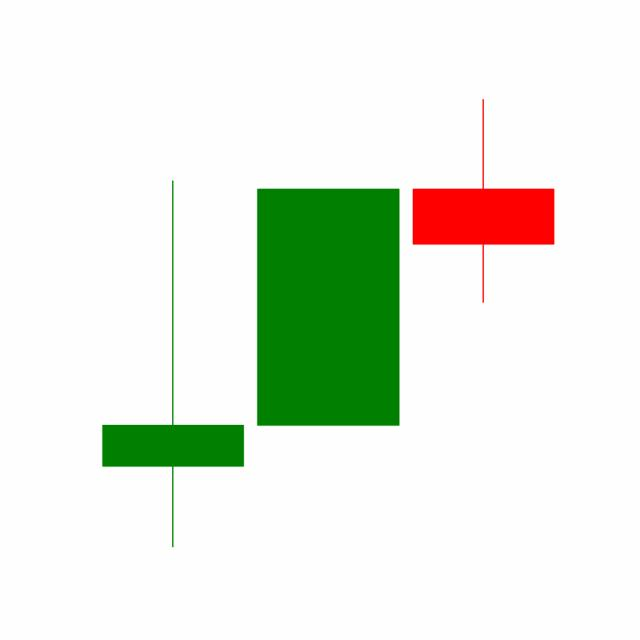Marubozu: (249, 185, 406, 427)
